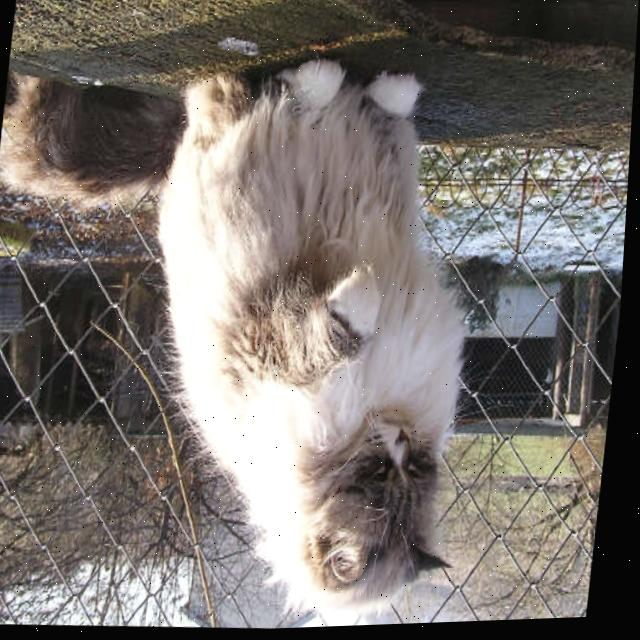Neva Masquerade: (0, 35, 513, 639)
